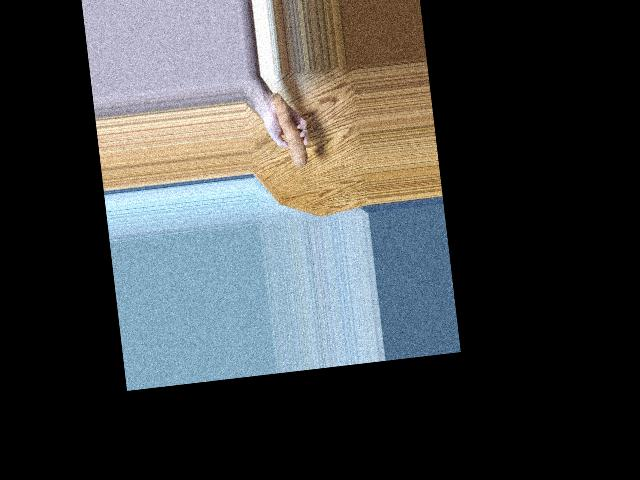sweet_potato: (273, 93, 310, 171)
